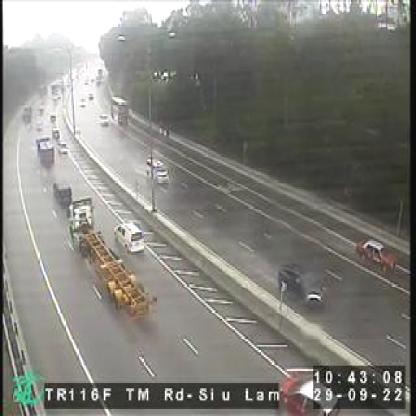Bus: (108, 95, 130, 123)
Car: (278, 262, 326, 307), (353, 238, 398, 275), (112, 222, 149, 253), (144, 158, 170, 182), (50, 178, 74, 203), (57, 142, 70, 154), (99, 112, 110, 126), (22, 104, 31, 121), (84, 88, 95, 100), (50, 128, 60, 140), (34, 118, 43, 130), (38, 104, 46, 113), (76, 97, 84, 106), (48, 111, 55, 121)
Truck: (67, 201, 154, 321), (32, 135, 53, 163)
